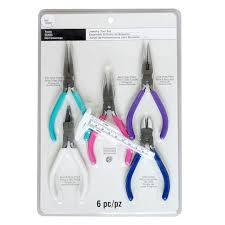pliers: (87, 69, 133, 166), (125, 39, 170, 138), (46, 40, 90, 141), (124, 115, 170, 202)
